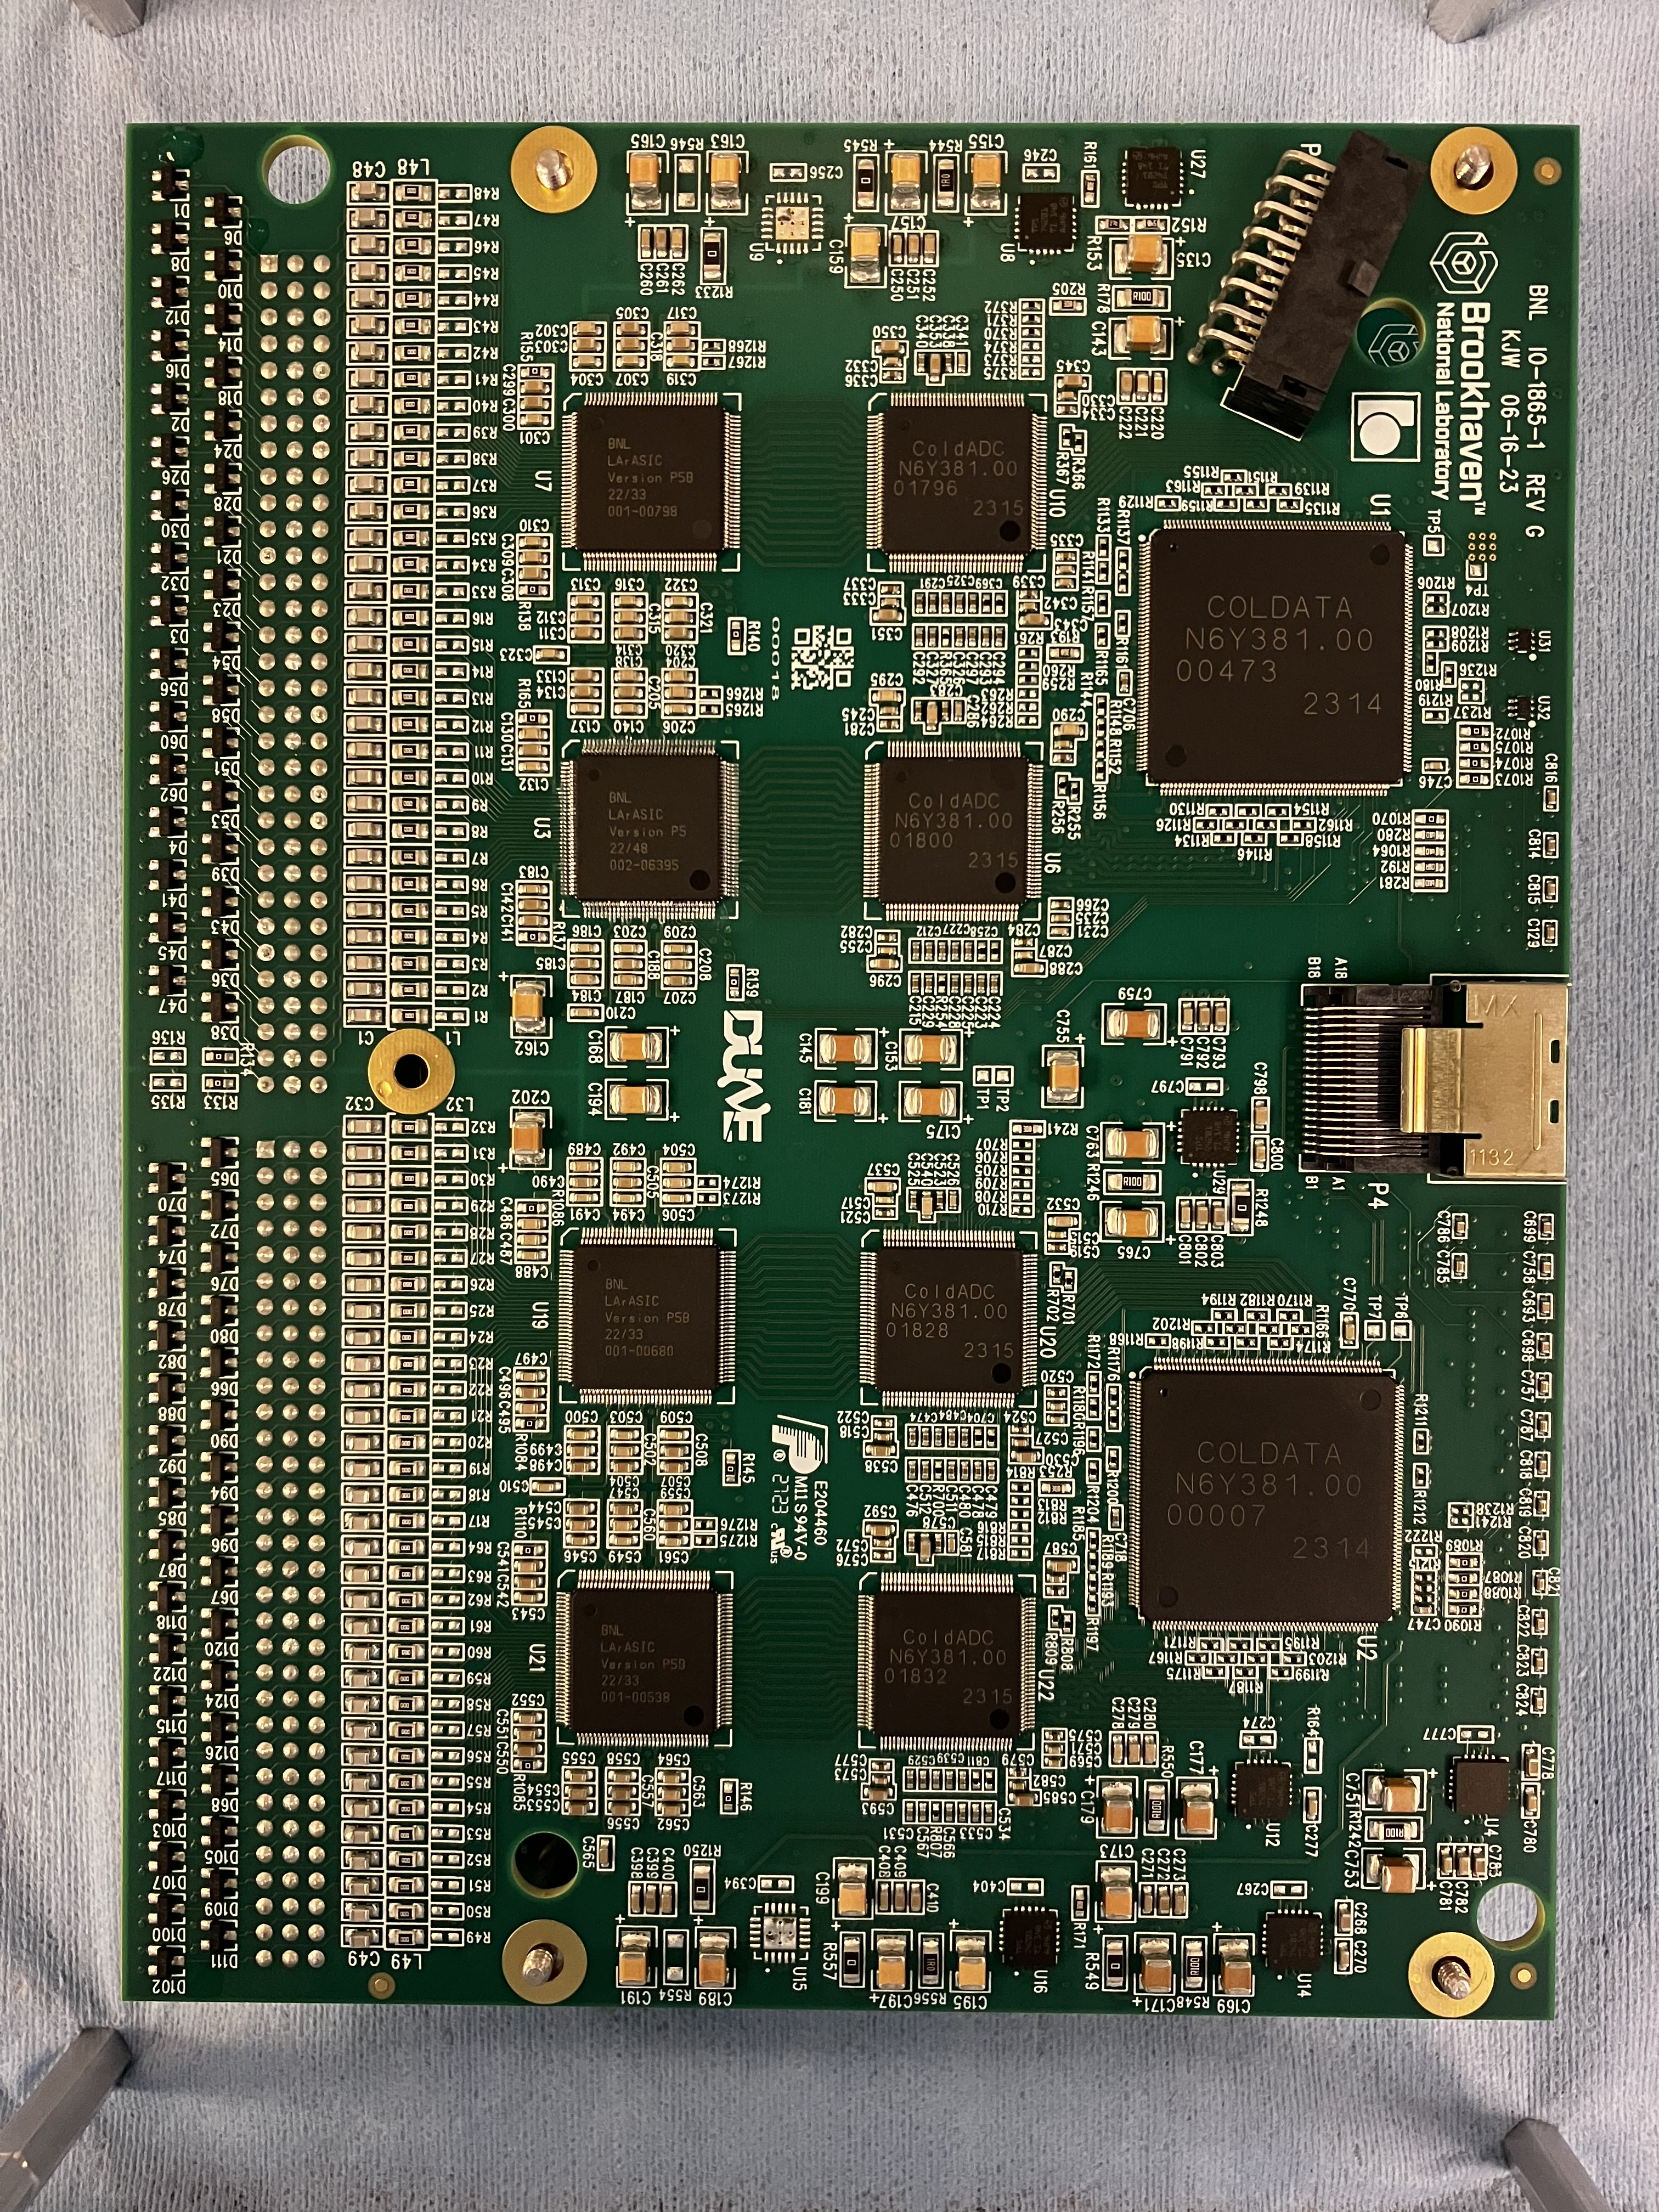chip: (1138, 1366, 1394, 1625), (1148, 526, 1405, 784), (873, 1583, 1026, 1737), (572, 749, 723, 900), (575, 399, 725, 550), (880, 404, 1030, 556), (877, 752, 1028, 902), (570, 1238, 720, 1390), (873, 1242, 1023, 1393), (570, 1581, 720, 1733)
